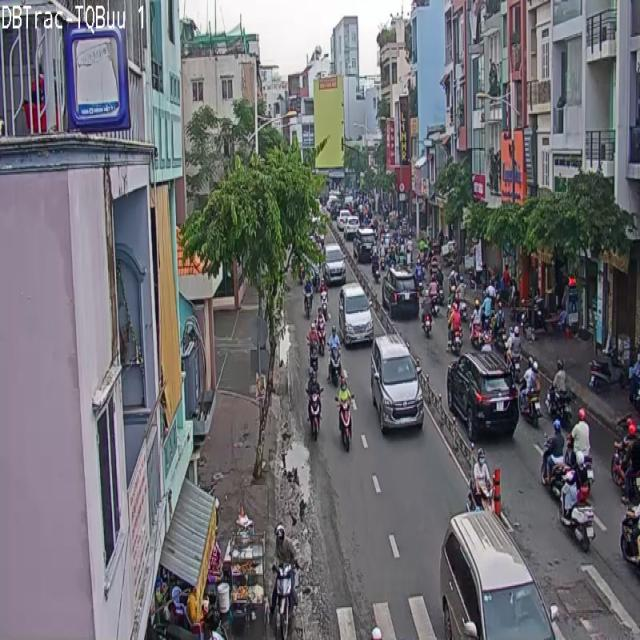car: (550, 434, 594, 550), (270, 526, 296, 639), (335, 378, 353, 451), (521, 360, 540, 427), (327, 329, 342, 384), (308, 393, 321, 438)
traffic-light: (441, 511, 555, 639), (447, 353, 518, 441), (371, 334, 423, 430), (338, 283, 372, 347), (382, 267, 418, 316)
